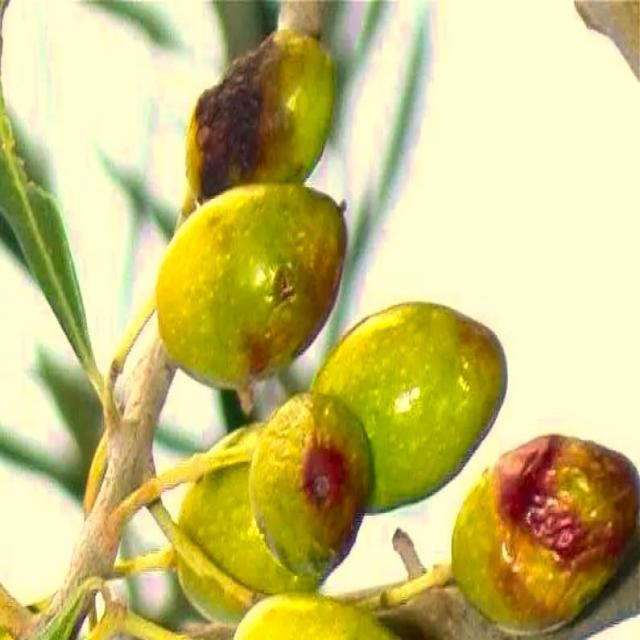Olive Fruit Fly: (155, 183, 346, 389), (452, 435, 639, 639), (187, 27, 334, 202), (249, 395, 374, 577)
